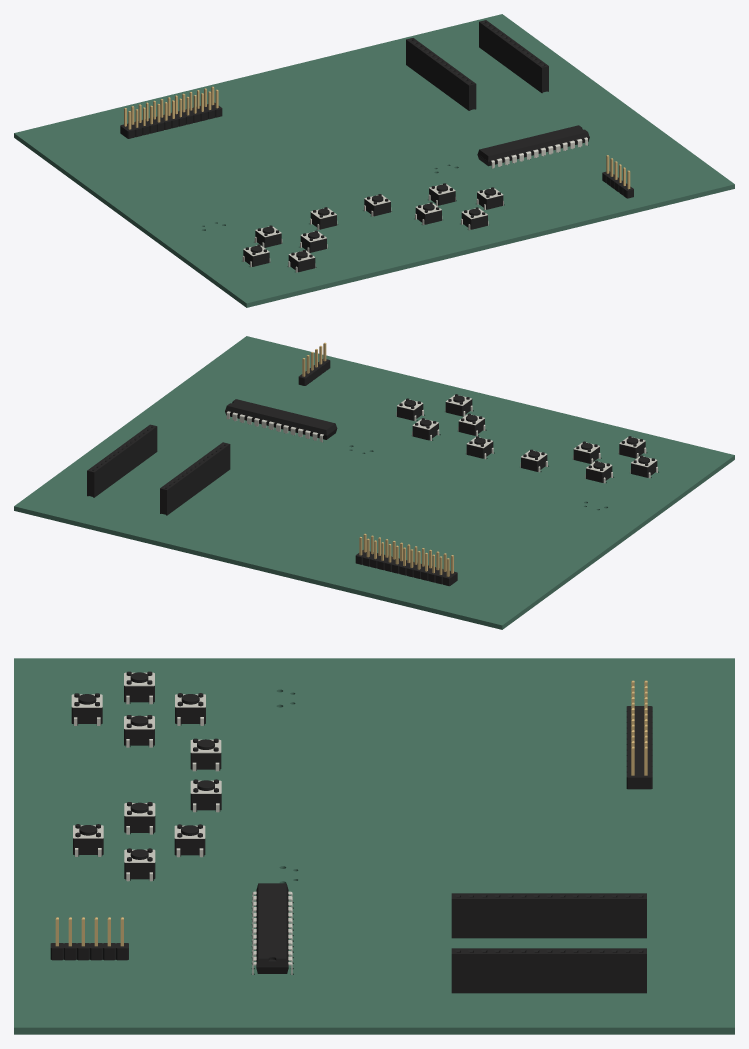
Rendered from acc.glb.
3 renders of one model, top to bottom at view 1: azimuth 30°, elevation 25°; view 2: azimuth 150°, elevation 25°; view 3: azimuth 270°, elevation 25°, orthographic. The views are drawn at different scales.
Parts seen in each view (by area): view 1: =>[0:1:1:7], J3, U1, J2, J1, J4, SW4, SW2, SW1, SW7, SW5, SW6 (+4 smaller); view 2: =>[0:1:1:7], J3, U1, J2, J1, J4, SW10, SW8, SW4, SW2, SW9, SW7 (+4 smaller); view 3: =>[0:1:1:7], J2, J1, U1, J3, J4, SW5, SW10, SW7, SW9, SW6, SW4 (+4 smaller).
Part boxes in pixels (bbox=[...]): =>[0:1:1:7]: bbox=[14, 14, 734, 307]; J3: bbox=[120, 86, 222, 138]; U1: bbox=[477, 125, 589, 168]; J2: bbox=[406, 38, 476, 110]; J1: bbox=[479, 20, 548, 93]; J4: bbox=[602, 155, 633, 198]; SW4: bbox=[288, 250, 315, 272]; SW2: bbox=[242, 244, 270, 267]; SW1: bbox=[254, 225, 282, 247]; SW7: bbox=[476, 187, 503, 210]; SW5: bbox=[428, 183, 455, 205]; SW6: bbox=[415, 202, 442, 225]; =>[0:1:1:7]: bbox=[14, 336, 734, 629]; J3: bbox=[355, 533, 457, 586]; U1: bbox=[225, 399, 337, 442]; J2: bbox=[160, 442, 230, 515]; J1: bbox=[87, 424, 157, 497]; J4: bbox=[298, 342, 330, 385]; SW10: bbox=[466, 436, 493, 459]; SW8: bbox=[445, 394, 472, 416]; SW4: bbox=[618, 436, 646, 458]; SW2: bbox=[630, 455, 657, 478]; SW9: bbox=[520, 449, 547, 472]; SW7: bbox=[396, 398, 423, 421]; =>[0:1:1:7]: bbox=[14, 658, 734, 1034]; J2: bbox=[451, 893, 646, 938]; J1: bbox=[451, 948, 646, 993]; U1: bbox=[252, 883, 292, 974]; J3: bbox=[626, 680, 652, 789]; J4: bbox=[50, 917, 128, 960]; SW5: bbox=[174, 824, 205, 857]; SW10: bbox=[190, 779, 221, 812]; SW7: bbox=[124, 848, 155, 881]; SW9: bbox=[190, 738, 221, 771]; SW6: bbox=[124, 802, 155, 834]; SW4: bbox=[71, 693, 102, 725].
Bounding box in the file's own units: 0.1704 × 0.012 × 0.1406.
